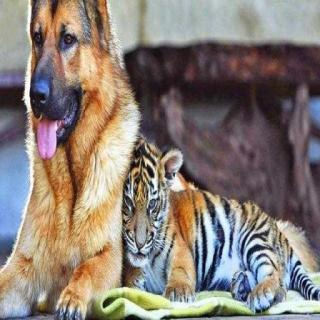Tiger: (114, 128, 320, 319)
